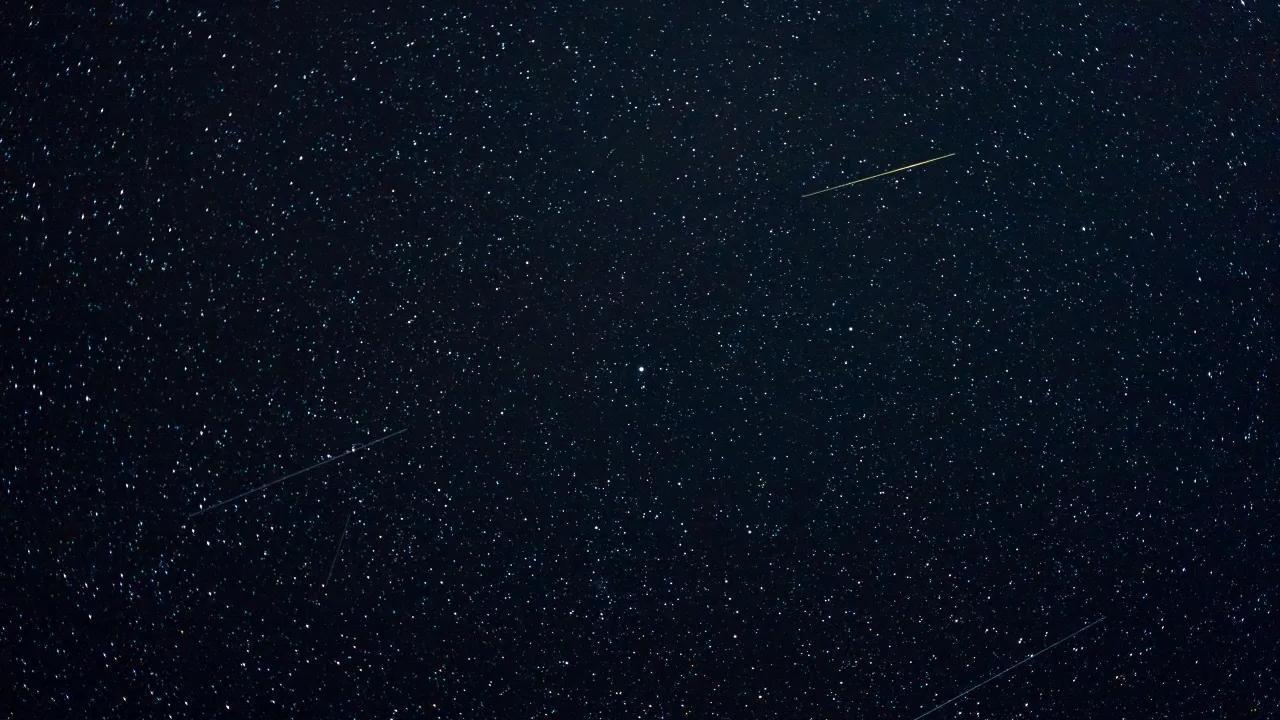meteorite: (901, 606, 1122, 713), (178, 418, 407, 521), (796, 139, 979, 198)
